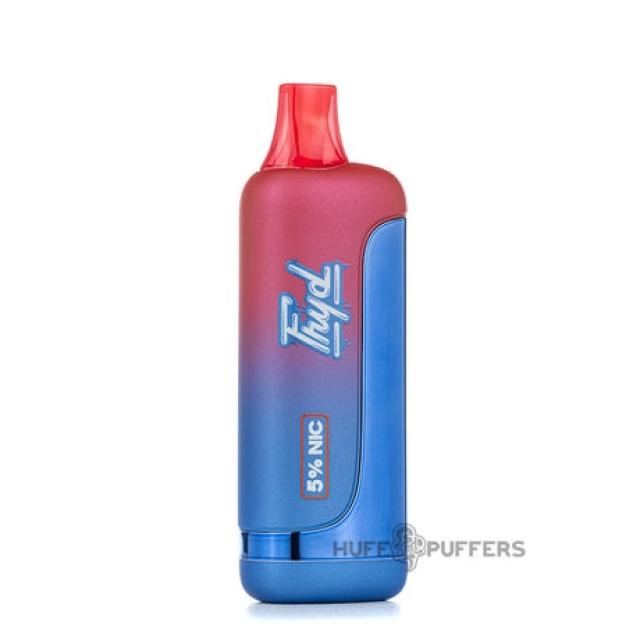Vapes: (235, 81, 409, 604)
